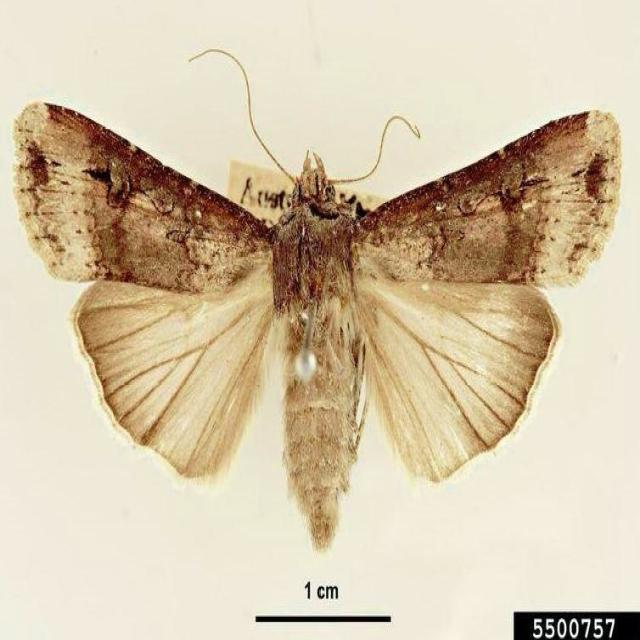black cutworm: (10, 43, 629, 560)
